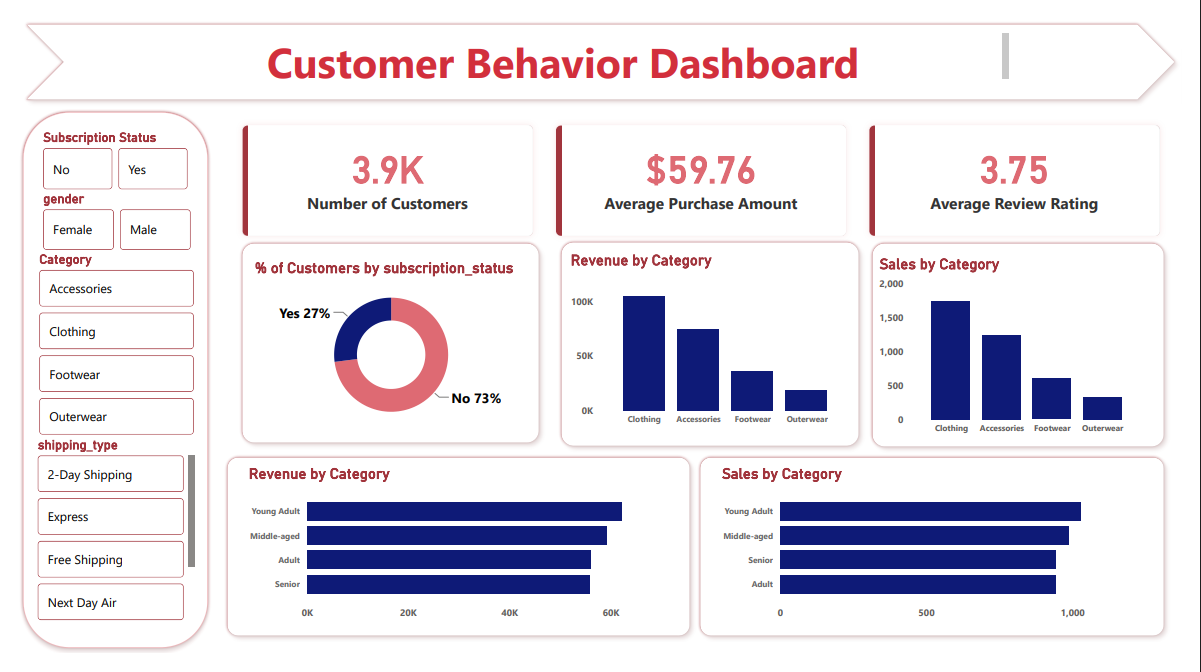

What the dashboard file says about the page in this screenshot:
{"tool":"powerbi","page":{"name":"Page 1","canvas":[1500,820],"ordinal":0},"visuals":[{"type":"cardVisual","fields":{"Data":["public customer.Number of Customers","public customer.Average Purchase Amount","public customer.Average Review Rating"]},"box":[261.8,111.3,1238.2,198.5],"z":0},{"type":"shape","box":[281.5,283.1,398.6,273.4],"z":1000},{"type":"donutChart","title":"% of Customers by subscription_status","fields":{"Category":["public customer.subscription_status"],"Y":["public customer.Number of Customers"]},"box":[301,310.8,361.2,224.5],"z":2000},{"type":"shape","box":[693.2,281.5,400.3,278.2],"z":3000},{"type":"shape","box":[1093.4,283.1,392.1,278.2],"z":4000},{"type":"clusteredColumnChart","title":"Revenue  by Category","fields":{"Category":["public customer.category"],"Y":["Sum(public customer.purchase_amount)"]},"box":[707.8,301,371,232.7],"z":5000},{"type":"clusteredColumnChart","title":"Sales  by Category","fields":{"Category":["public customer.category"],"Y":["CountNonNull(public customer.purchase_amount)"]},"box":[1106.4,305.9,349.8,239.2],"z":6000},{"type":"shape","box":[0,115.2,252.2,702.9],"z":7000},{"type":"shape","box":[3.1,0,1496.9,113.9],"z":8000},{"type":"textbox","box":[133.4,14.6,1148.7,74.8],"z":9000},{"type":"advancedSlicerVisual","fields":{"Values":["public customer.subscription_status"]},"box":[28,143.8,196.9,83],"z":10000},{"type":"advancedSlicerVisual","fields":{"Values":["public customer.gender"]},"box":[28,223.2,201.8,81.4],"z":11000},{"type":"advancedSlicerVisual","fields":{"Values":["public customer.category"]},"box":[22.8,301,209.9,243.4],"z":12000},{"type":"advancedSlicerVisual","fields":{"Values":["public customer.shipping_type"]},"box":[21.2,539.6,211.5,244.7],"z":13000},{"type":"shape","box":[262,558.1,613.4,245.7],"z":14000},{"type":"clusteredBarChart","title":"Revenue  by Age Group","fields":{"Category":["public customer.age_group"],"Y":["Sum(public customer.purchase_amount)"]},"box":[292.9,576,553.2,208.3],"z":15000},{"type":"shape","box":[872.1,558.1,613.4,245.7],"z":16000},{"type":"clusteredBarChart","title":"Sales  by Age Group","fields":{"Category":["public customer.age_group"],"Y":["CountNonNull(public customer.customer_id)"]},"box":[903.1,576,553.2,208.3],"z":17000}]}

Visuals, with their boxes in screenshot pixels (x1, y1, x2, y2), scaled from the page's 1500x820 canvas onto the 1201x672 screenshot:
cardVisual - public customer.Number of Customers x public customer.Average Purchase Amount: (left=210, top=91, right=1200, bottom=254)
shape: (left=225, top=232, right=545, bottom=456)
"% of Customers by subscription_status" donutChart: (left=241, top=255, right=530, bottom=439)
shape: (left=555, top=231, right=876, bottom=459)
shape: (left=875, top=232, right=1189, bottom=460)
"Revenue  by Category" clusteredColumnChart: (left=567, top=247, right=864, bottom=437)
"Sales  by Category" clusteredColumnChart: (left=886, top=251, right=1166, bottom=447)
shape: (left=0, top=94, right=202, bottom=670)
shape: (left=2, top=0, right=1200, bottom=93)
textbox: (left=107, top=12, right=1027, bottom=73)
advancedSlicerVisual - public customer.subscription_status: (left=22, top=118, right=180, bottom=186)
advancedSlicerVisual - public customer.gender: (left=22, top=183, right=184, bottom=250)
advancedSlicerVisual - public customer.category: (left=18, top=247, right=186, bottom=446)
advancedSlicerVisual - public customer.shipping_type: (left=17, top=442, right=186, bottom=643)
shape: (left=210, top=457, right=701, bottom=659)
"Revenue  by Age Group" clusteredBarChart: (left=235, top=472, right=677, bottom=643)
shape: (left=698, top=457, right=1189, bottom=659)
"Sales  by Age Group" clusteredBarChart: (left=723, top=472, right=1166, bottom=643)
